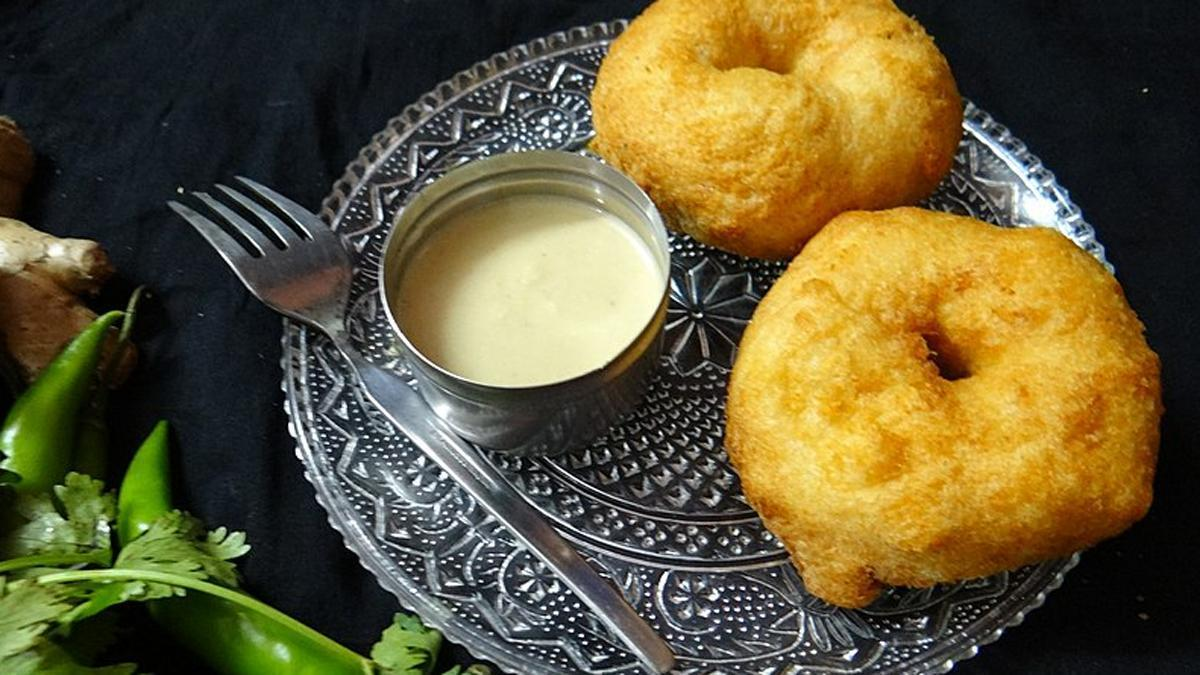mvada: (677, 25, 1171, 601)
